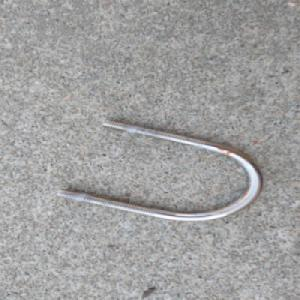ClampPart: (54, 118, 267, 225)
